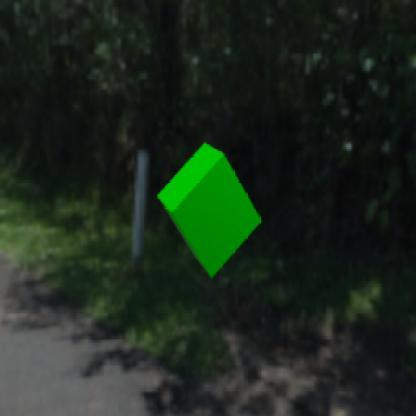cube: (158, 142, 262, 277)
